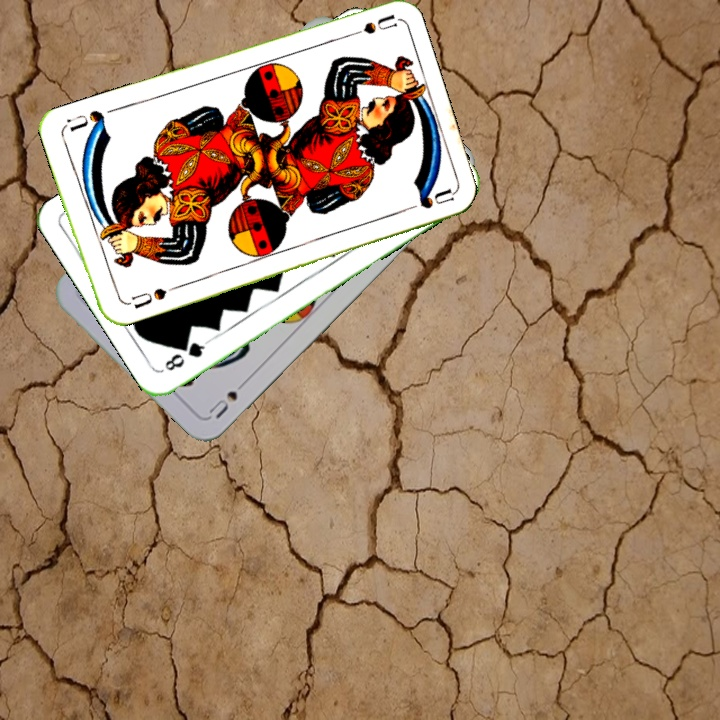G8: (160, 336, 211, 374)
SU: (204, 373, 252, 422), (339, 11, 398, 41), (120, 284, 169, 312)
